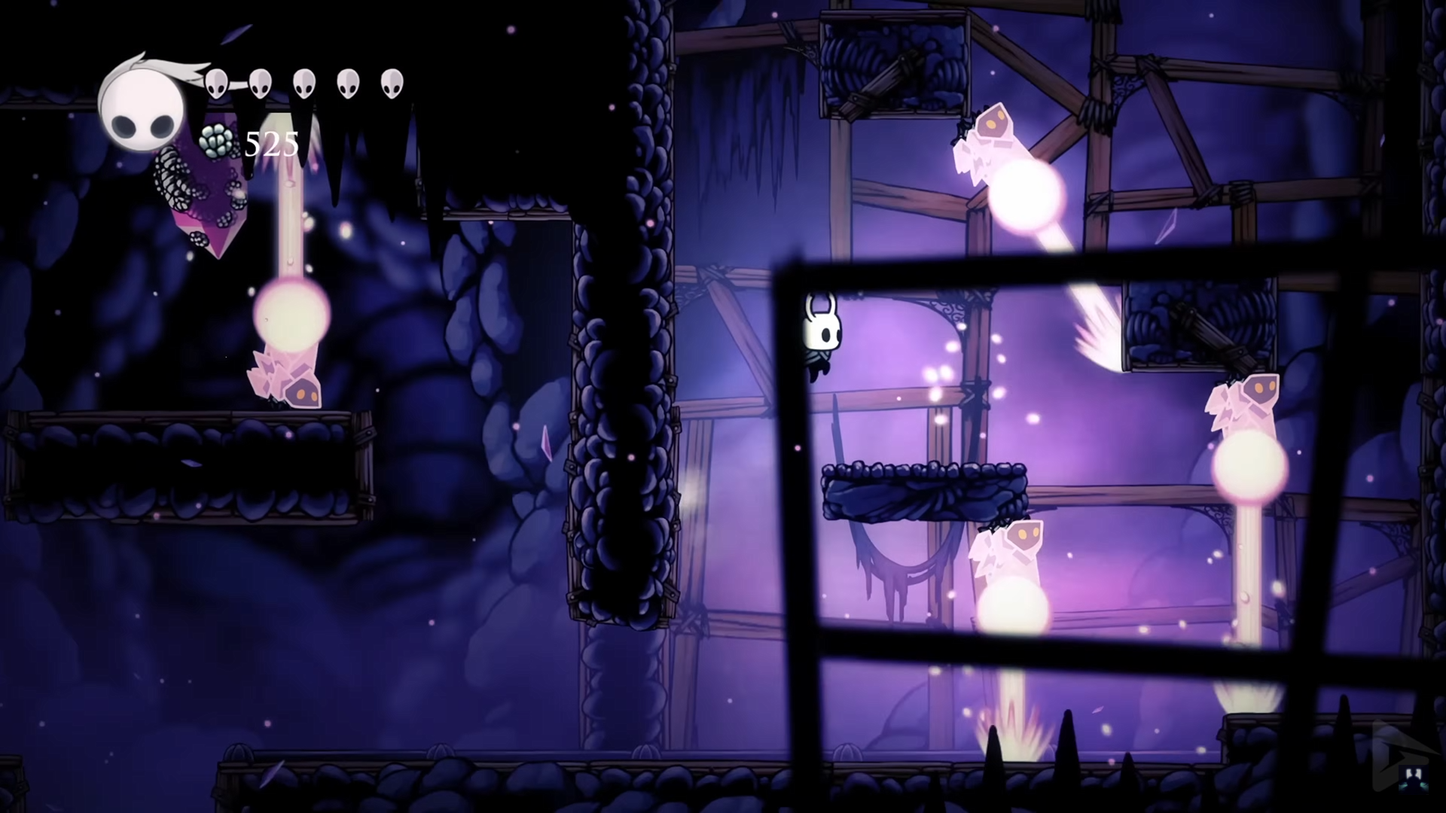HK: (795, 289, 848, 388)
